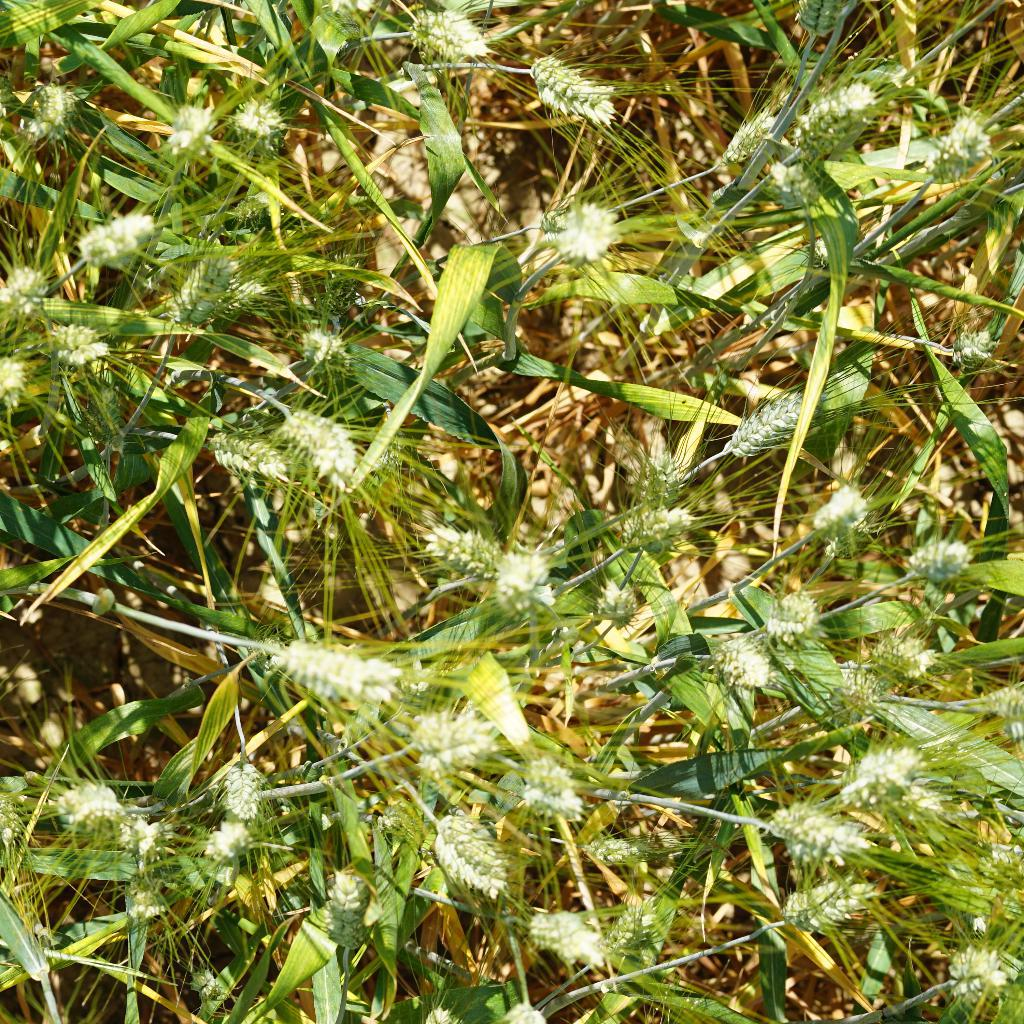0-0: (251, 620, 396, 710), (518, 41, 646, 131), (761, 788, 881, 873), (271, 397, 380, 486), (182, 413, 306, 490), (430, 802, 518, 904), (792, 66, 875, 174), (765, 870, 886, 942), (387, 0, 497, 73), (59, 201, 172, 271), (541, 190, 630, 275), (716, 378, 814, 455), (926, 97, 998, 193), (503, 750, 590, 829), (929, 933, 1023, 1003), (224, 83, 305, 163), (415, 518, 511, 585), (367, 776, 443, 860), (157, 234, 230, 321), (397, 698, 490, 765), (478, 539, 553, 620), (148, 92, 225, 168), (317, 864, 376, 957), (894, 523, 976, 589), (10, 75, 85, 146), (515, 911, 610, 967), (617, 497, 699, 561), (582, 822, 683, 873), (817, 657, 888, 729), (841, 731, 923, 793), (610, 878, 669, 963), (276, 313, 352, 377), (705, 628, 777, 695), (963, 819, 1024, 897), (765, 0, 860, 48), (803, 478, 875, 541), (866, 620, 938, 683), (714, 96, 777, 167), (594, 572, 657, 642), (37, 316, 114, 373), (206, 750, 269, 818), (0, 257, 59, 328), (56, 770, 126, 826), (964, 672, 1024, 737), (946, 306, 1004, 373), (109, 873, 182, 925), (752, 587, 819, 642), (0, 775, 40, 867), (624, 438, 672, 514), (187, 960, 242, 1019), (225, 179, 281, 236), (818, 515, 875, 566), (193, 813, 256, 859), (763, 153, 817, 205), (232, 271, 279, 325), (0, 339, 33, 408), (119, 815, 169, 858)
